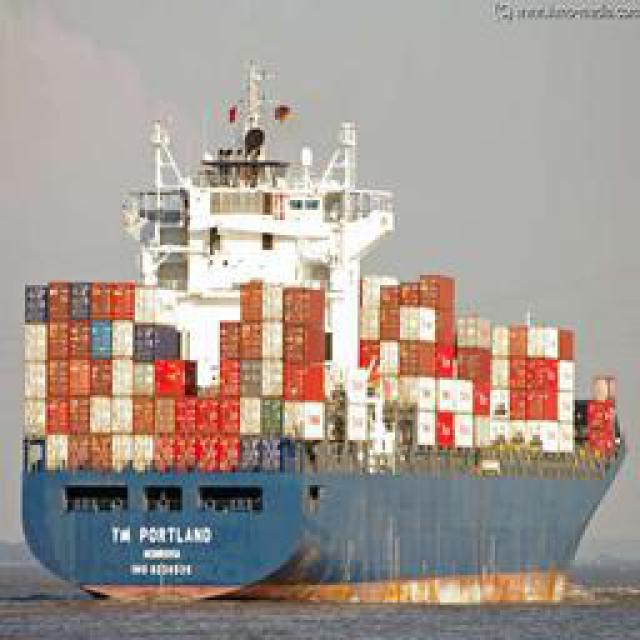Ship: (14, 44, 640, 623)
